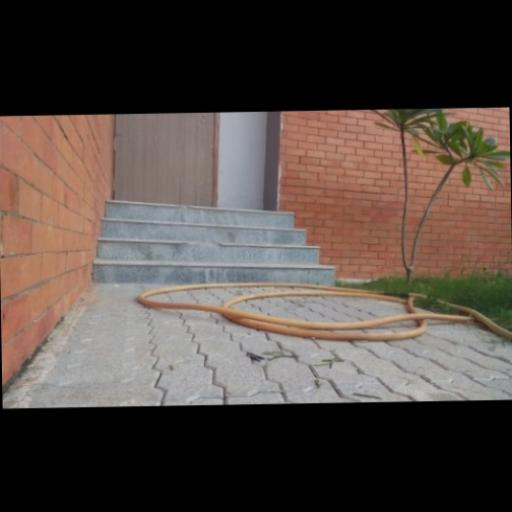stairs: (94, 202, 335, 285)
